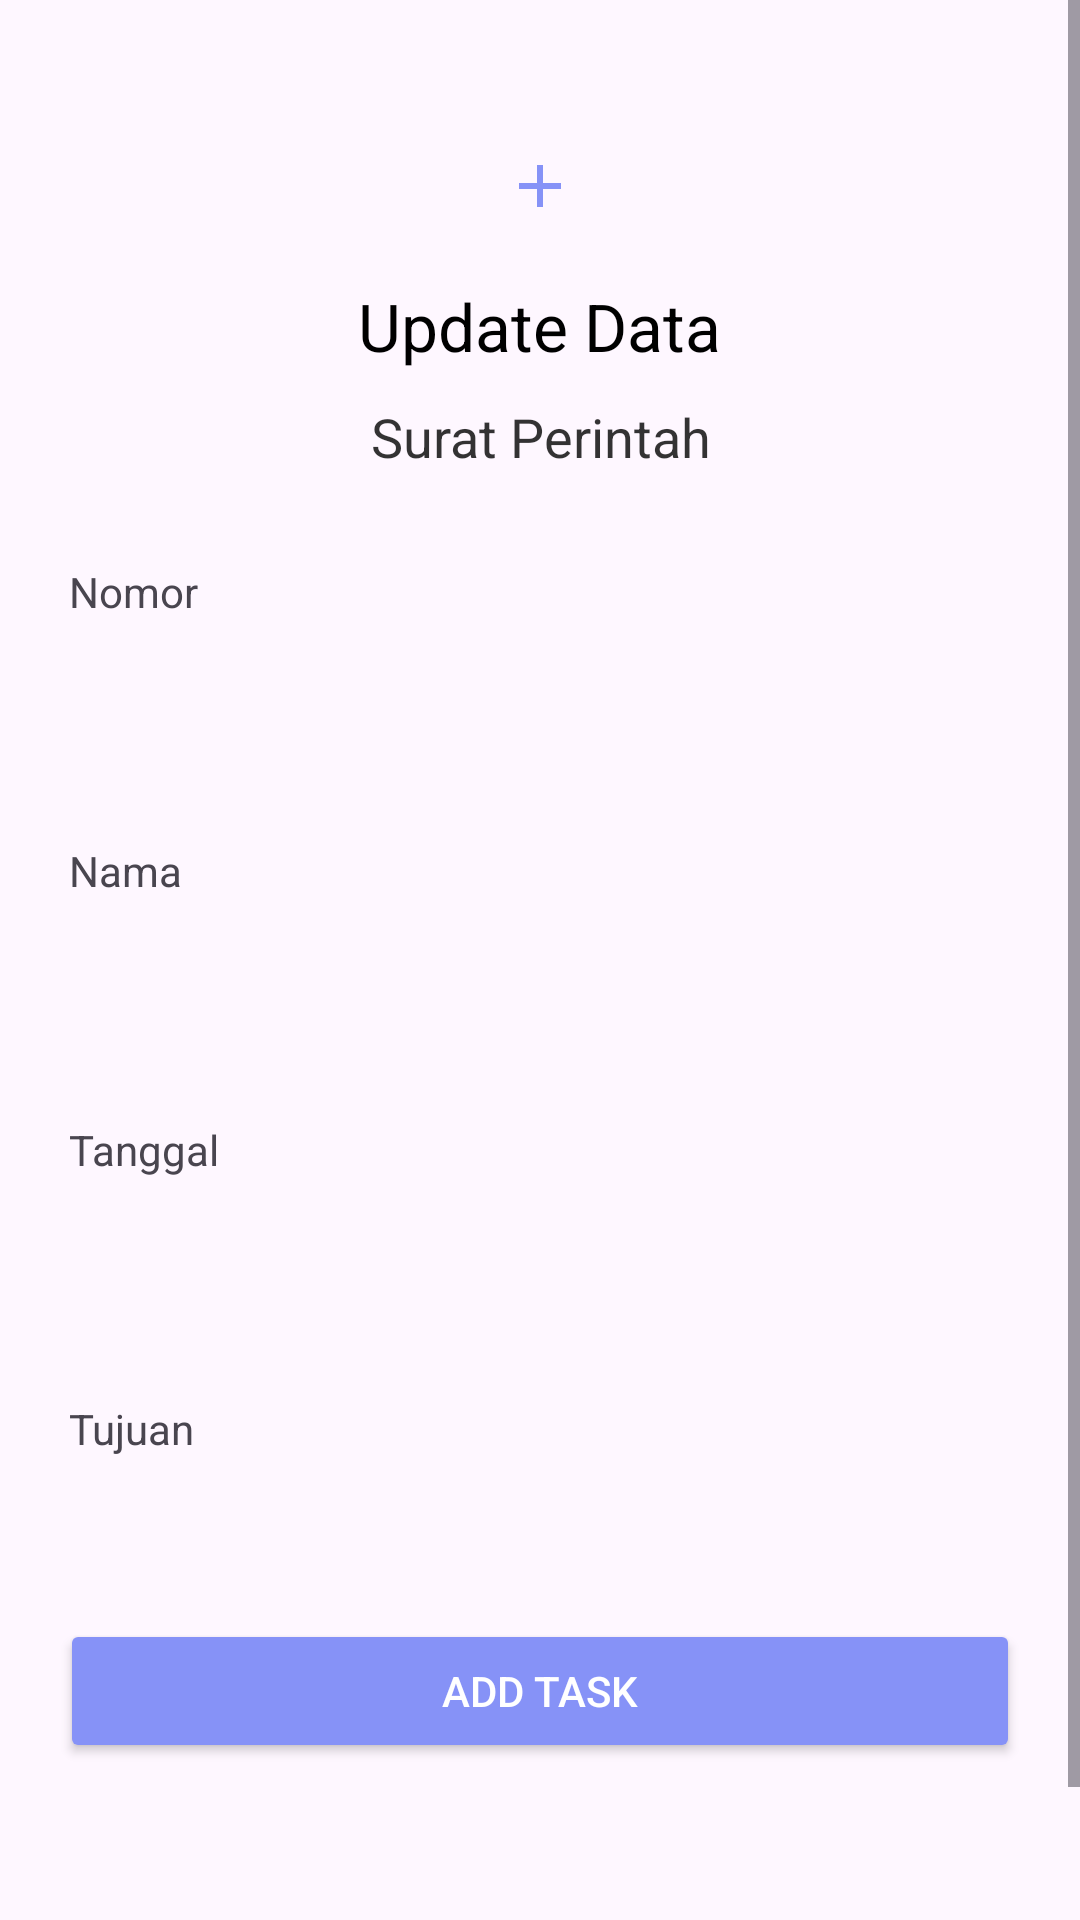

Where to tap for icons on this 1080px x 1920px app screen, as point (x, y):
add: point (540, 186)
